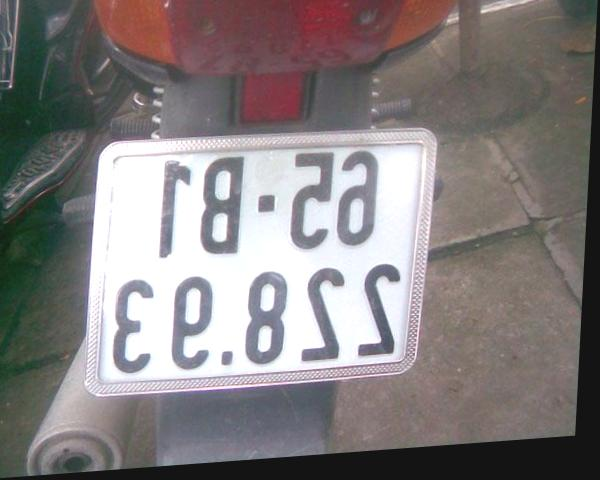License_Plate: (83, 121, 438, 394)
